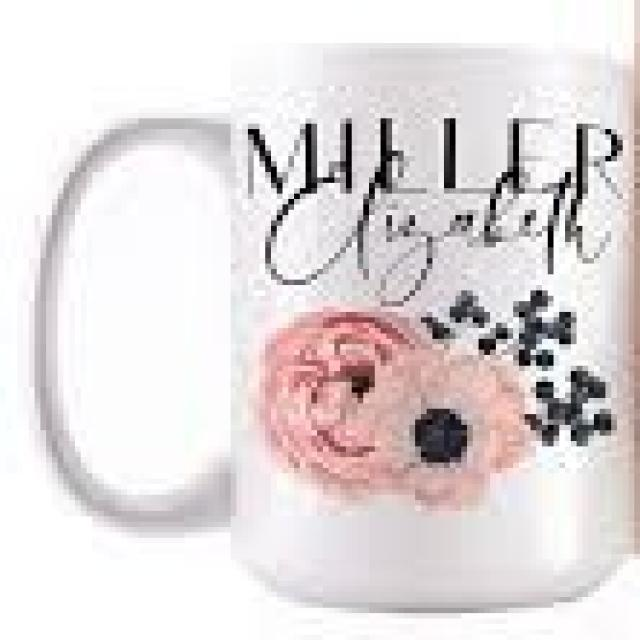taza: (22, 34, 638, 615)
